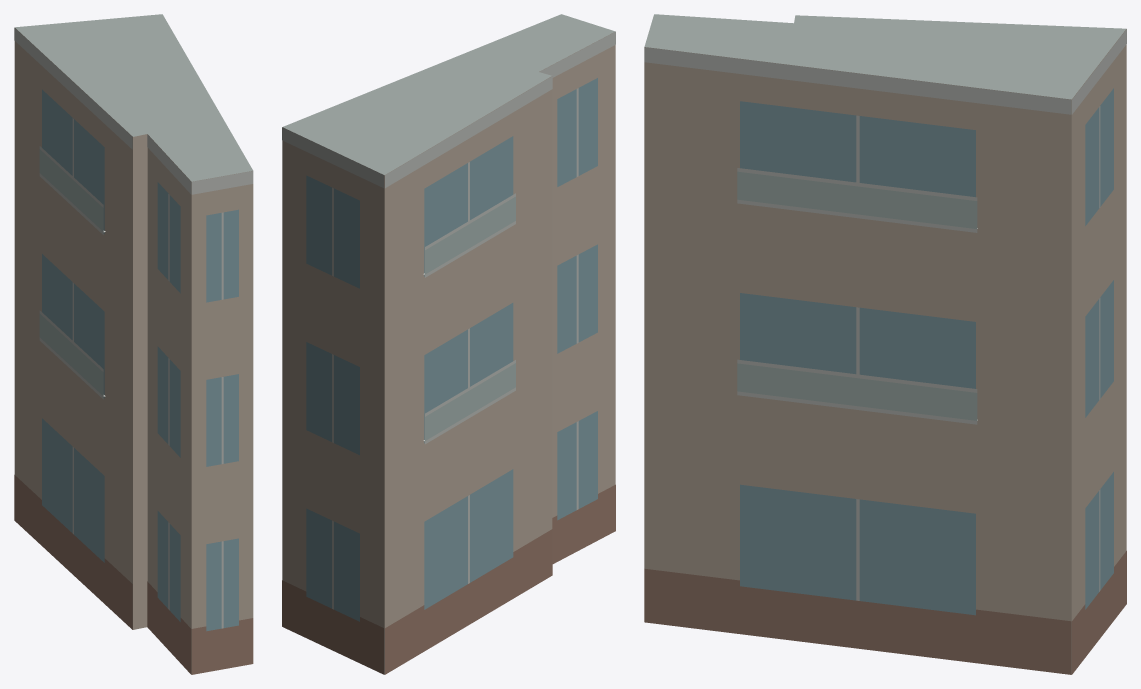
Rendered from survey-upis-32914018.glb.
3 views of the same model, side by side, from view 1: azimuth 30°, elevation 25°; view 2: azimuth 150°, elevation 25°; view 3: azimuth 270°, elevation 25° (orthographic). The views are drawn at different scales.
Visible parts, largest first — view 1: survey-upis-32914018.tmp; view 2: survey-upis-32914018.tmp; view 3: survey-upis-32914018.tmp.
Boxes of the visible parts, bbox=[...] form: survey-upis-32914018.tmp: bbox=[14, 14, 253, 674]; survey-upis-32914018.tmp: bbox=[282, 14, 615, 674]; survey-upis-32914018.tmp: bbox=[644, 14, 1126, 674].
Size of the model in its own units: 2.92 by 9.15 by 6.96.
